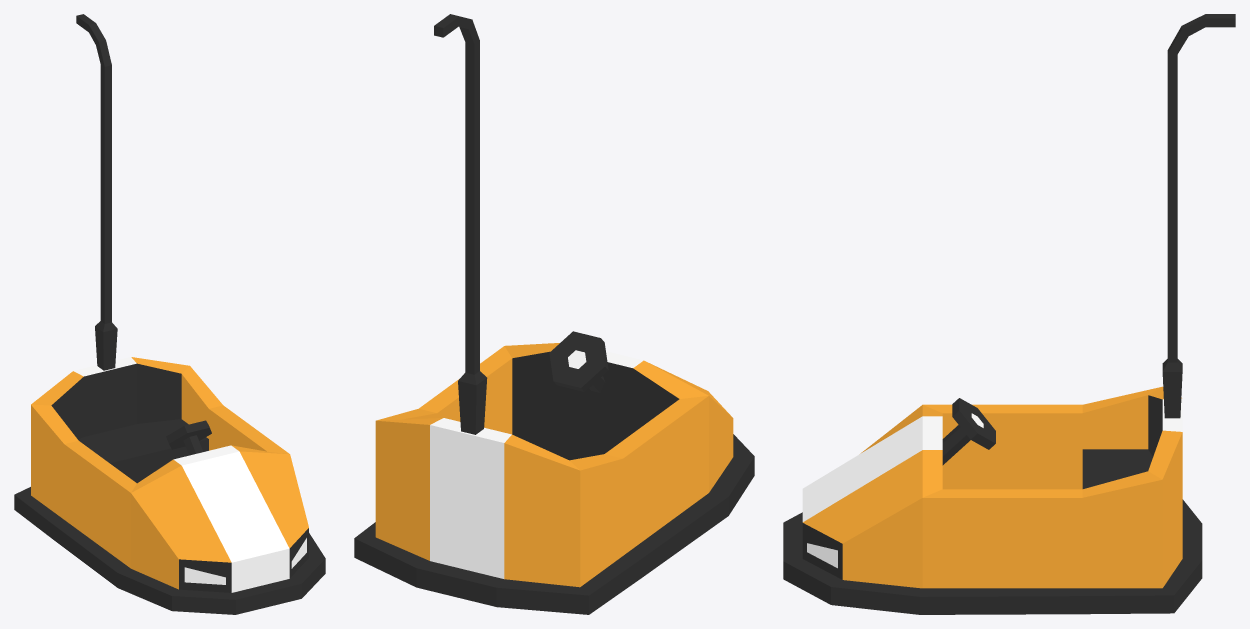
File: bumper-car_yellow.glb
The picture shows the model from 3 angles, left to right: view 1: azimuth 30°, elevation 25°; view 2: azimuth 150°, elevation 25°; view 3: azimuth 270°, elevation 25°; orthographic projection. The views are drawn at different scales.
Visible parts, largest first — view 1: bumper-car_yellow; view 2: bumper-car_yellow; view 3: bumper-car_yellow.
Part boxes in pixels (left/top/right/bottom): bumper-car_yellow: left=14, top=14, right=325, bottom=614; bumper-car_yellow: left=354, top=14, right=754, bottom=614; bumper-car_yellow: left=783, top=14, right=1235, bottom=614.
Bounding box in the file's own units: 1.3 × 3 × 2.26.
1 material, 1 textured.
